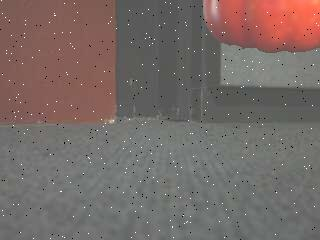Pumpkin: (203, 0, 320, 53)
